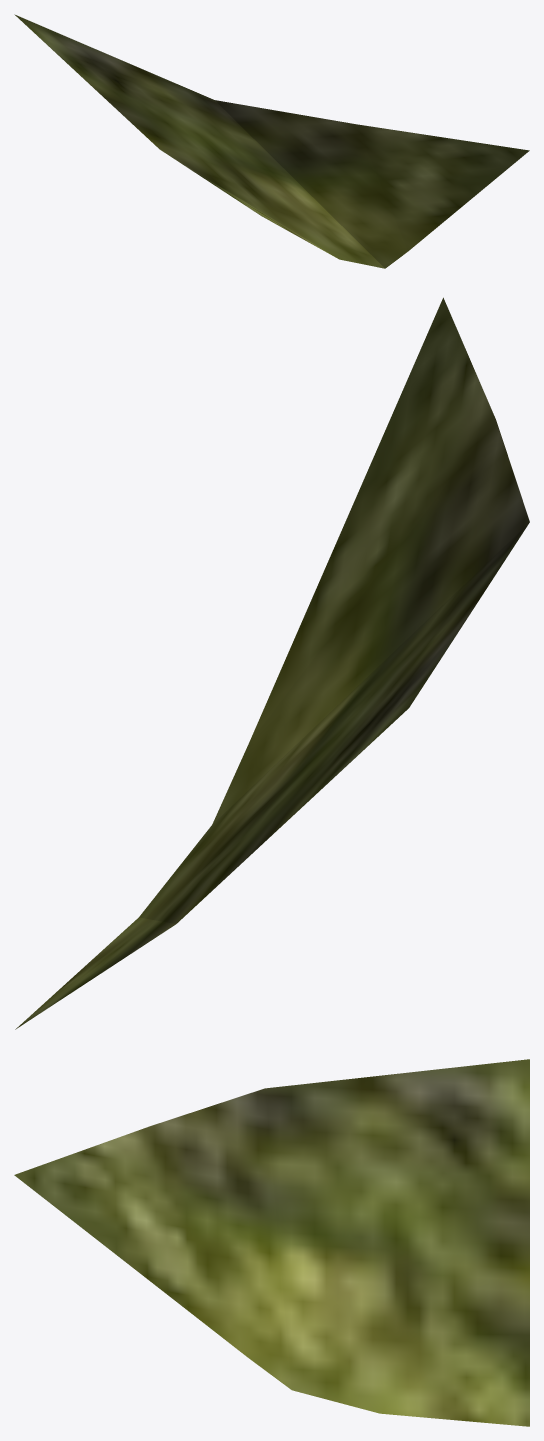
The picture shows the model from 3 angles, top to bottom: view 1: azimuth 30°, elevation 25°; view 2: azimuth 150°, elevation 25°; view 3: azimuth 270°, elevation 25°; orthographic projection. The views are drawn at different scales.
Bounding box in the file's own units: 0.5225 × 0.5295 × 0.9834.
1 material, 1 textured.
